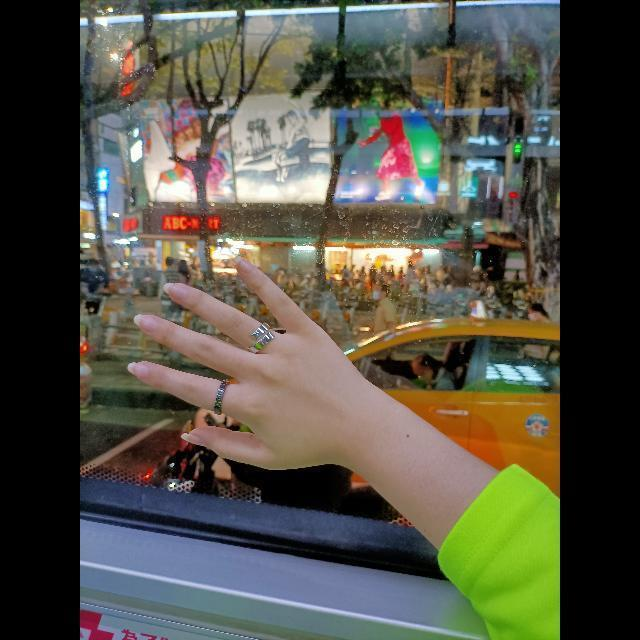bare_hand: (127, 255, 355, 471)
